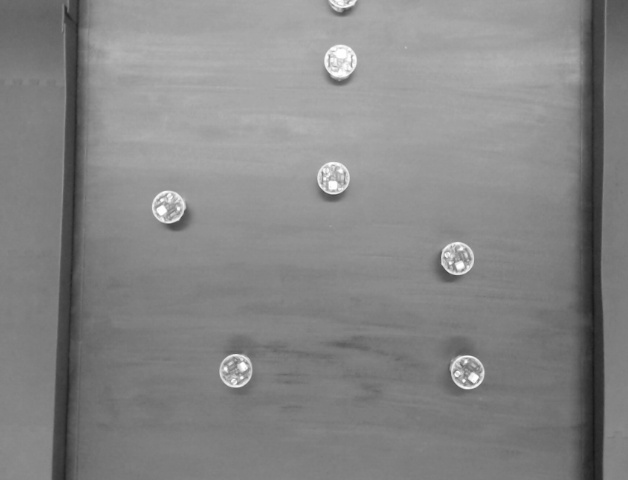epuck_2: (441, 350, 492, 398), (215, 350, 262, 394), (145, 183, 187, 228), (437, 238, 481, 278), (320, 42, 362, 83), (314, 159, 352, 198), (325, 1, 368, 18)
